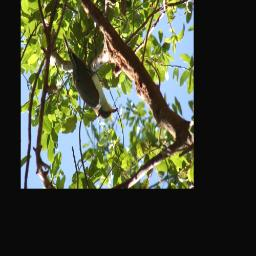Cuckoo: (63, 33, 119, 119)
